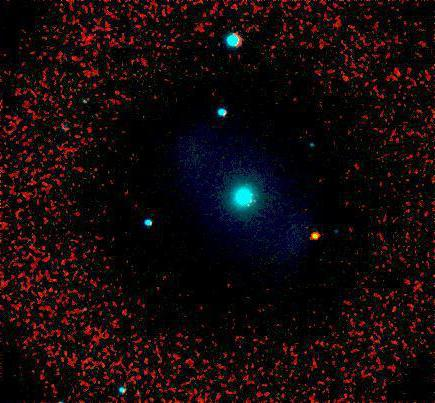star: (303, 222, 333, 252)
